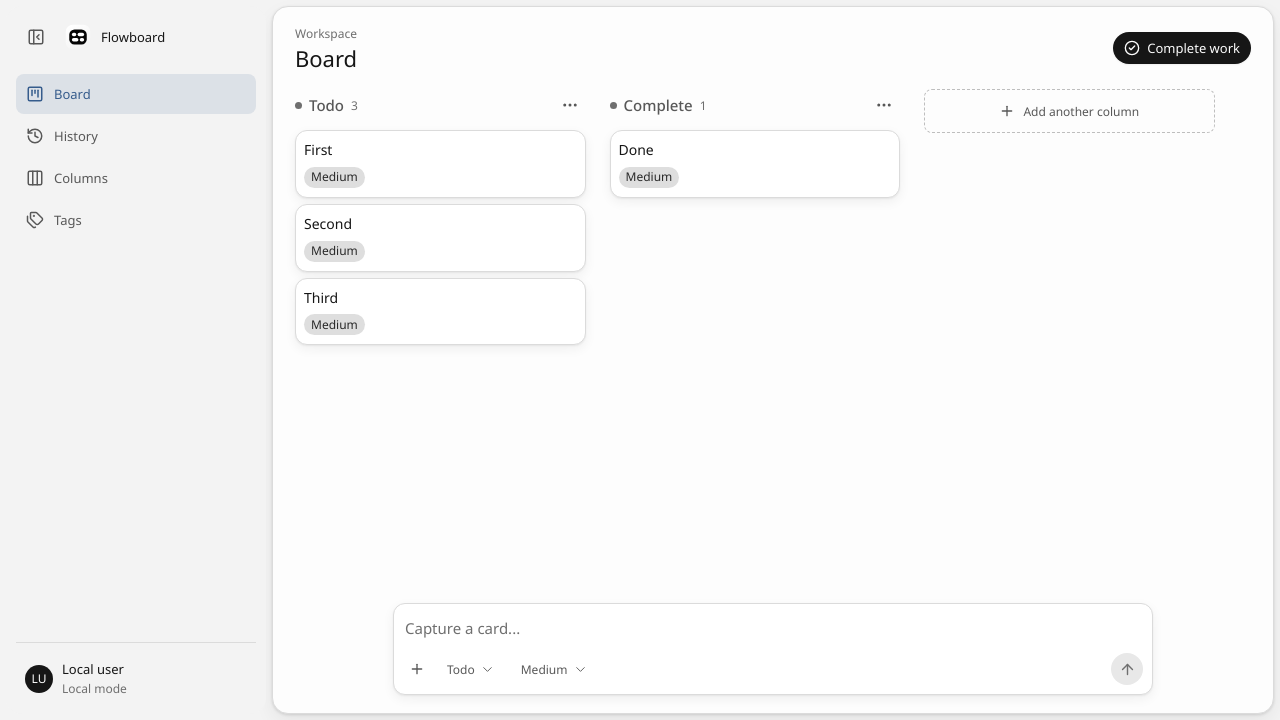
Scenario: retries archived detail failures without describing the card as missing
Click the button "History" at (136, 136), box [16,116,256,156]
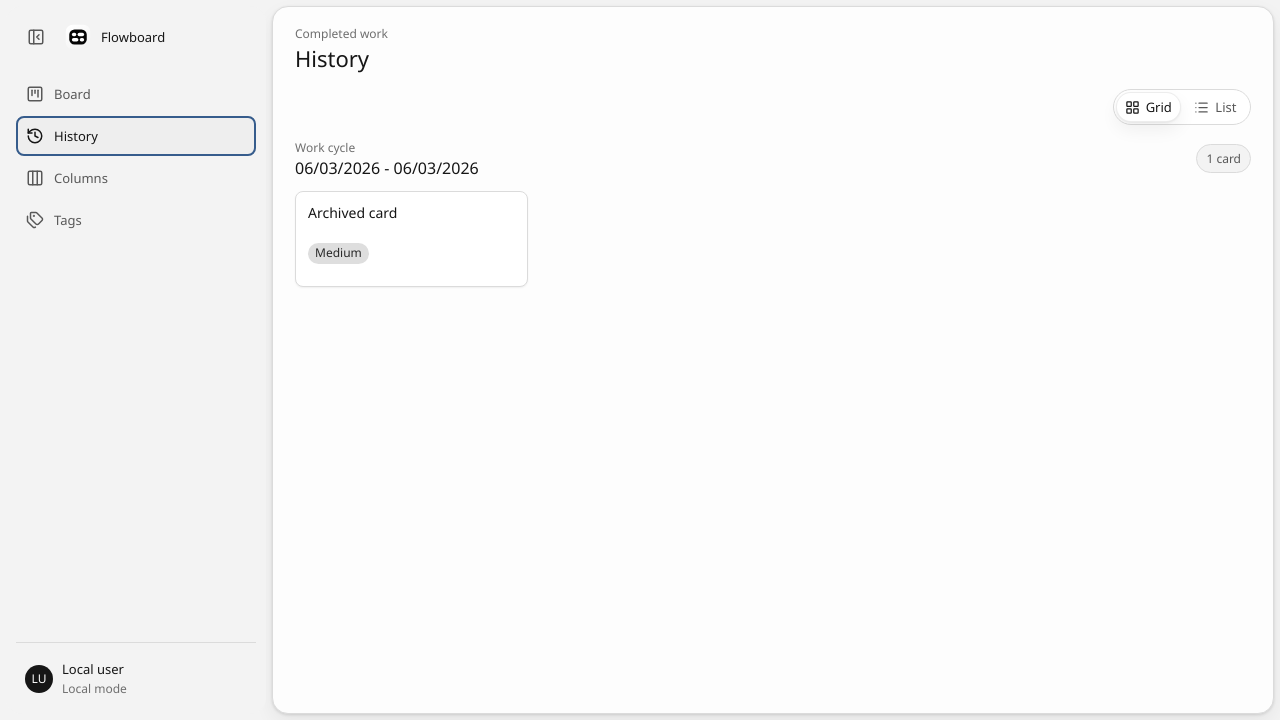
Click the text "Archived card" at (353, 212), box [308,203,397,222]
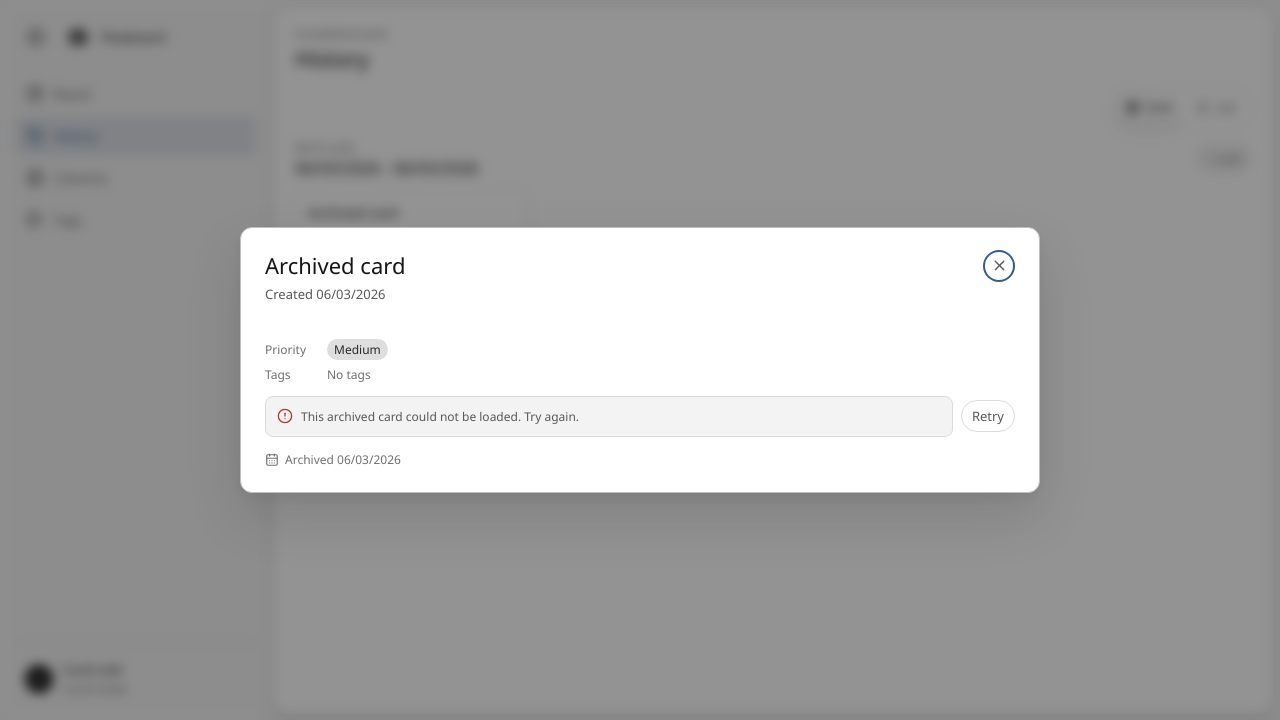
Check: the text "This archived card could not be loaded. Try again." is shown, box [301,408,579,425]
Click the button "Retry" at (988, 416), box [961,400,1015,432]
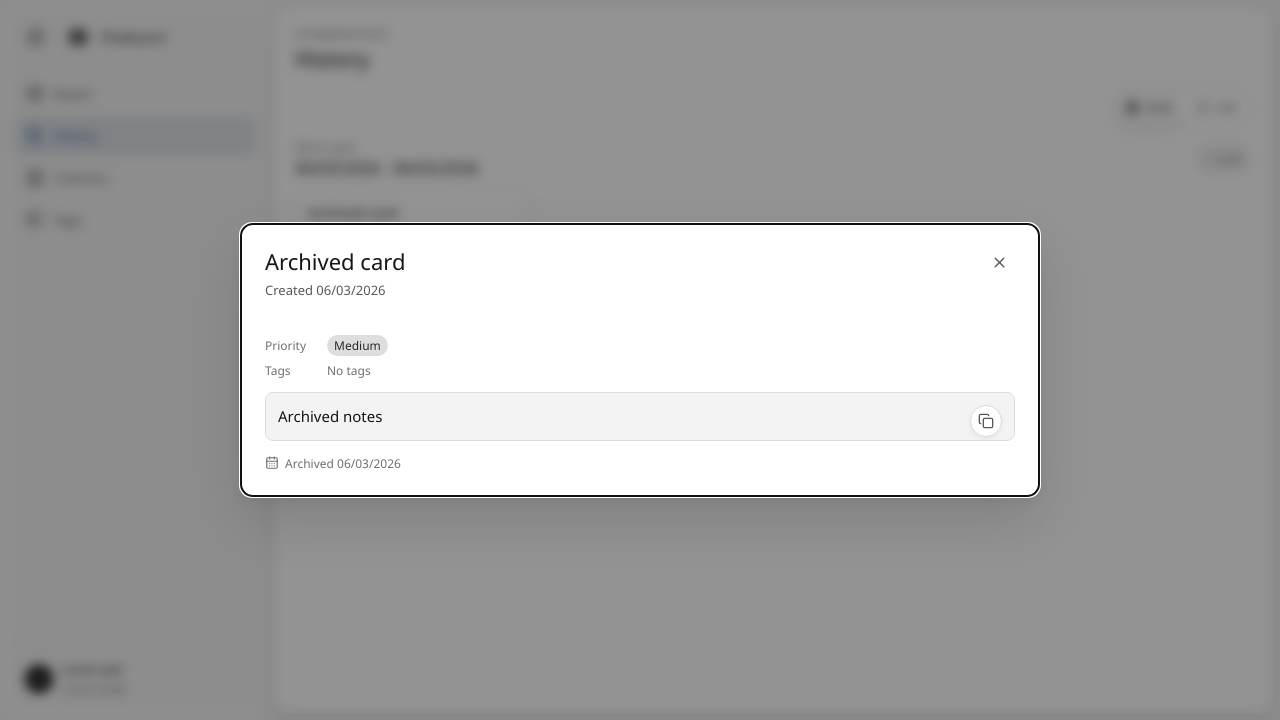
Check: the text "Archived notes" is shown, box [278,406,382,426]
